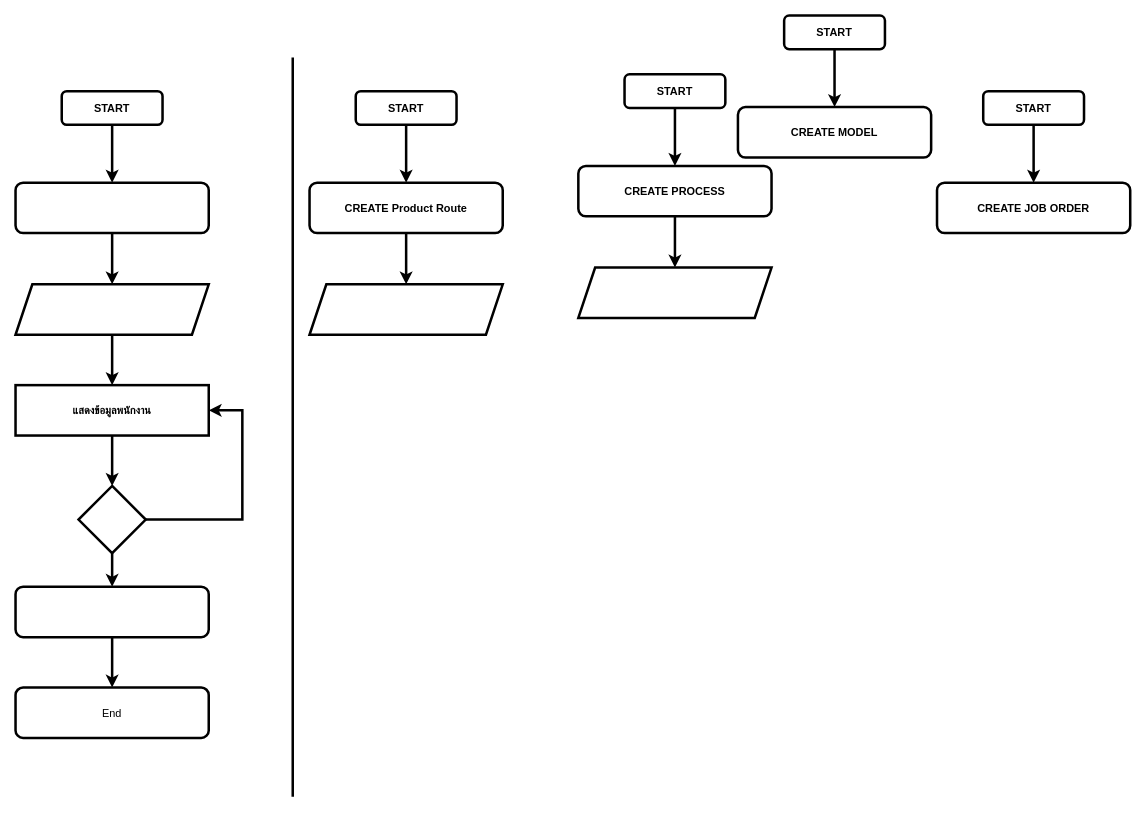
The diagram is 1146 pixels wide and 813 high, and some of its shapes have lost their labels. The centre of each missing label's shape, as x and y in pixels:
"CREATE Customer" goes at point 112,207.
"Save" goes at point 112,611.
"ข้อมูลพนักงาน, ตำแหน่ง, สิทธิ์การเข้าถึง" goes at point 112,309.
"ชื่อ, ระยะเวลาประมาณ, ไลน์การผลิต" goes at point 674,292.
"ถูกต้อง" goes at point 112,519.
"บุคคลกร" goes at point 406,309.
